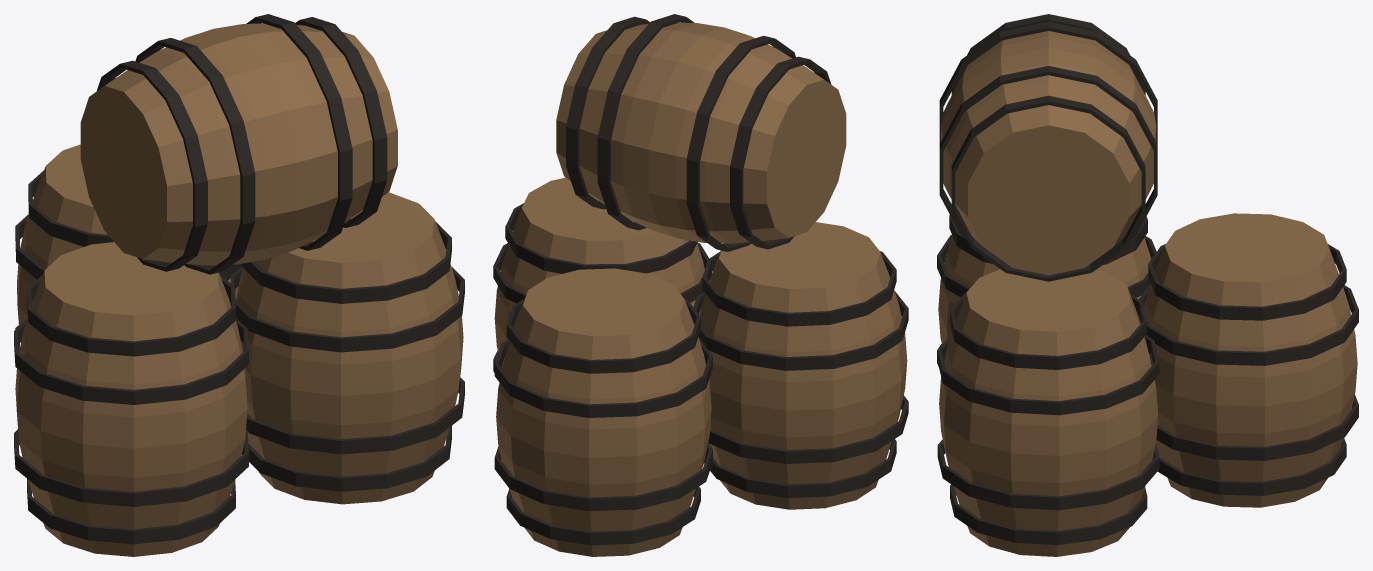
Rendered from decorativos-barriles-trio.glb.
The picture shows the model from 3 angles, left to right: view 1: azimuth 30°, elevation 25°; view 2: azimuth 150°, elevation 25°; view 3: azimuth 270°, elevation 25°; orthographic projection. The views are drawn at different scales.
Visible parts, largest first — view 1: barriles_trio_Madera, barriles_trio_Hierro; view 2: barriles_trio_Madera, barriles_trio_Hierro; view 3: barriles_trio_Madera, barriles_trio_Hierro.
Part boxes in pixels (bbox=[...]): barriles_trio_Madera: bbox=[15, 23, 463, 556]; barriles_trio_Hierro: bbox=[14, 14, 464, 544]; barriles_trio_Madera: bbox=[494, 22, 907, 556]; barriles_trio_Hierro: bbox=[493, 14, 908, 545]; barriles_trio_Madera: bbox=[938, 31, 1357, 556]; barriles_trio_Hierro: bbox=[937, 14, 1358, 545].
Size of the model in its own units: 1.64 by 1.7 by 1.53.
